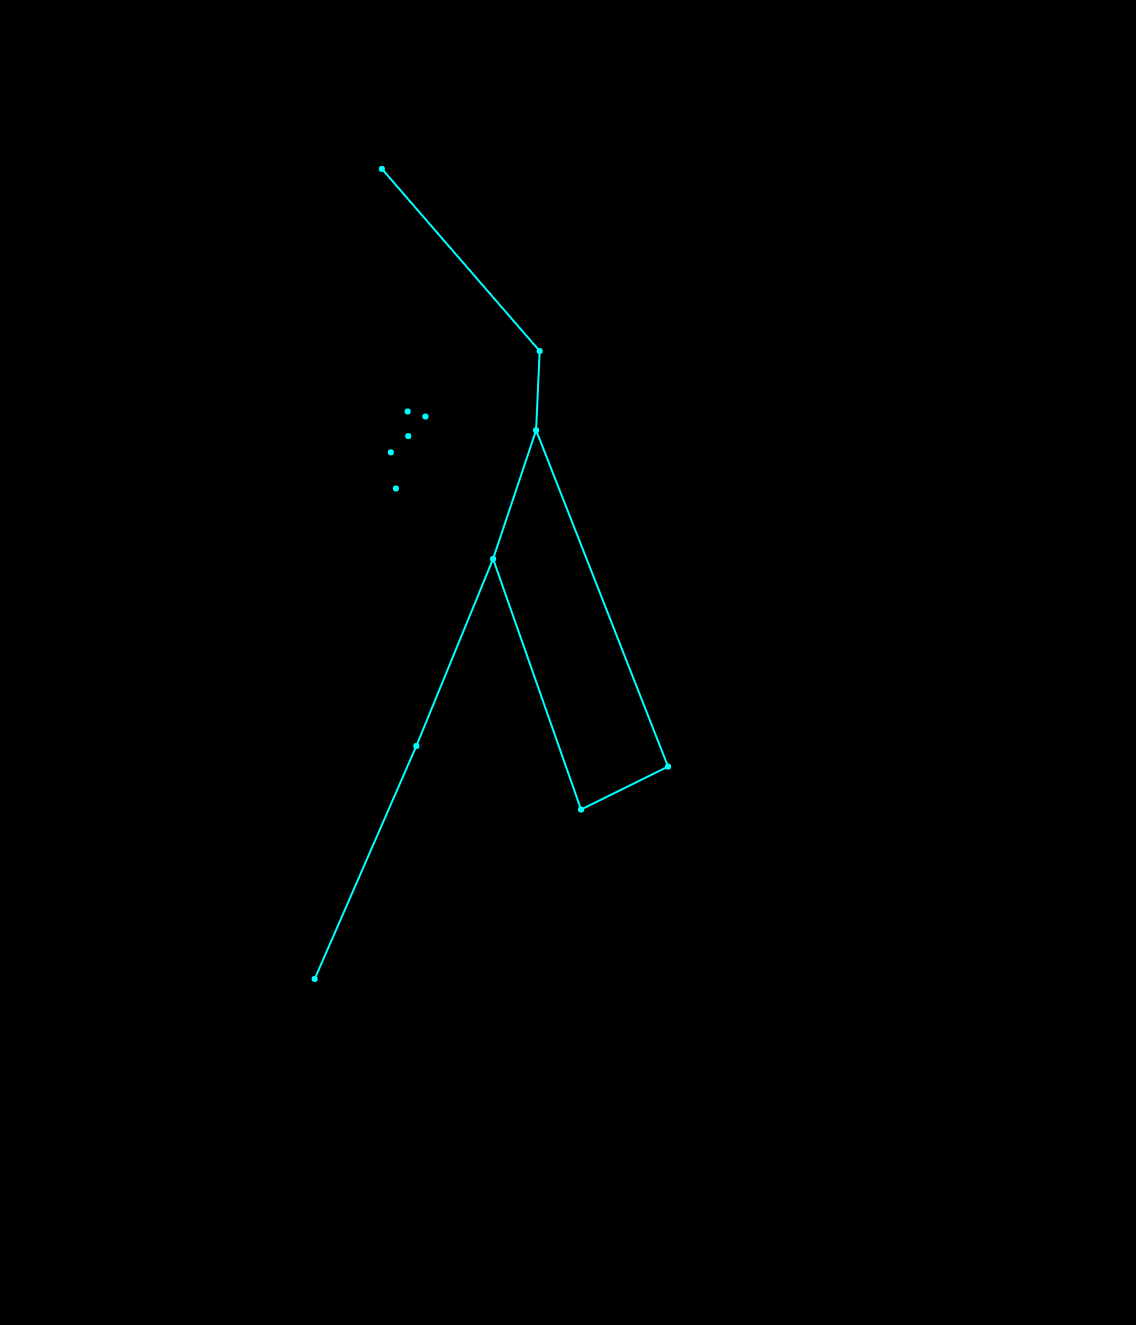warrior_1: (277, 149, 700, 1020)
